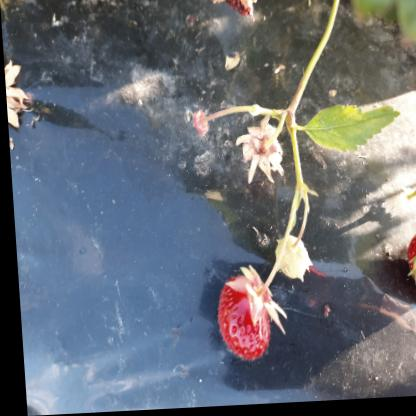ripe: (204, 270, 268, 363), (397, 230, 416, 300)
